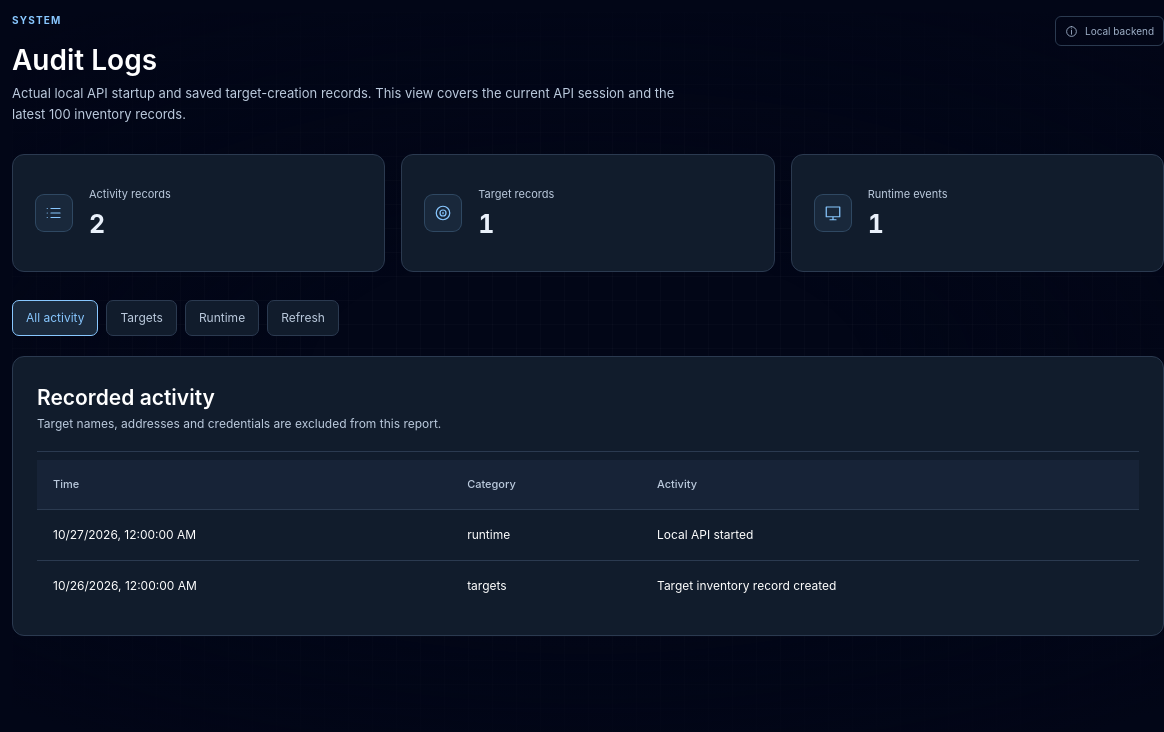
Test: activity report filters events returned by the backend
Expected: the text "Local API started" is shown, [641,510,1139,560]
Click the button "Targets" at x=142, y=318, box [106,300,177,336]
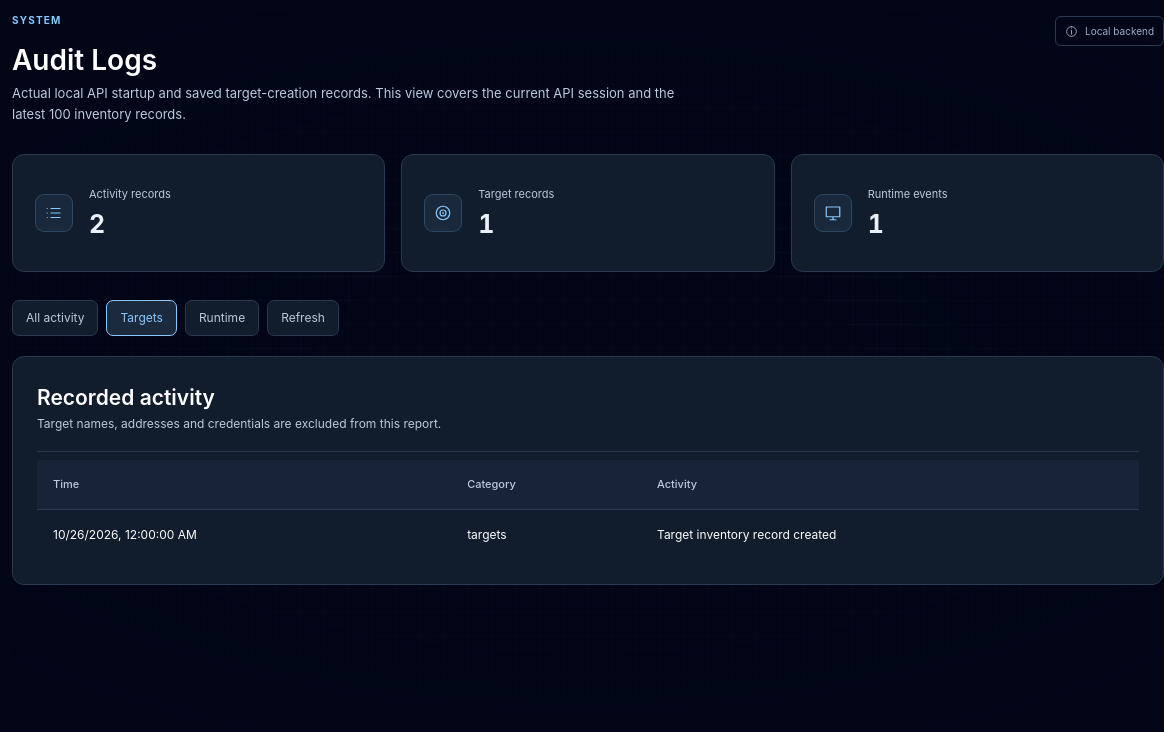
Expected: the text "Target inventory record created" is shown, [641,510,1139,560]
Expected: the text "Local API started" is gone
